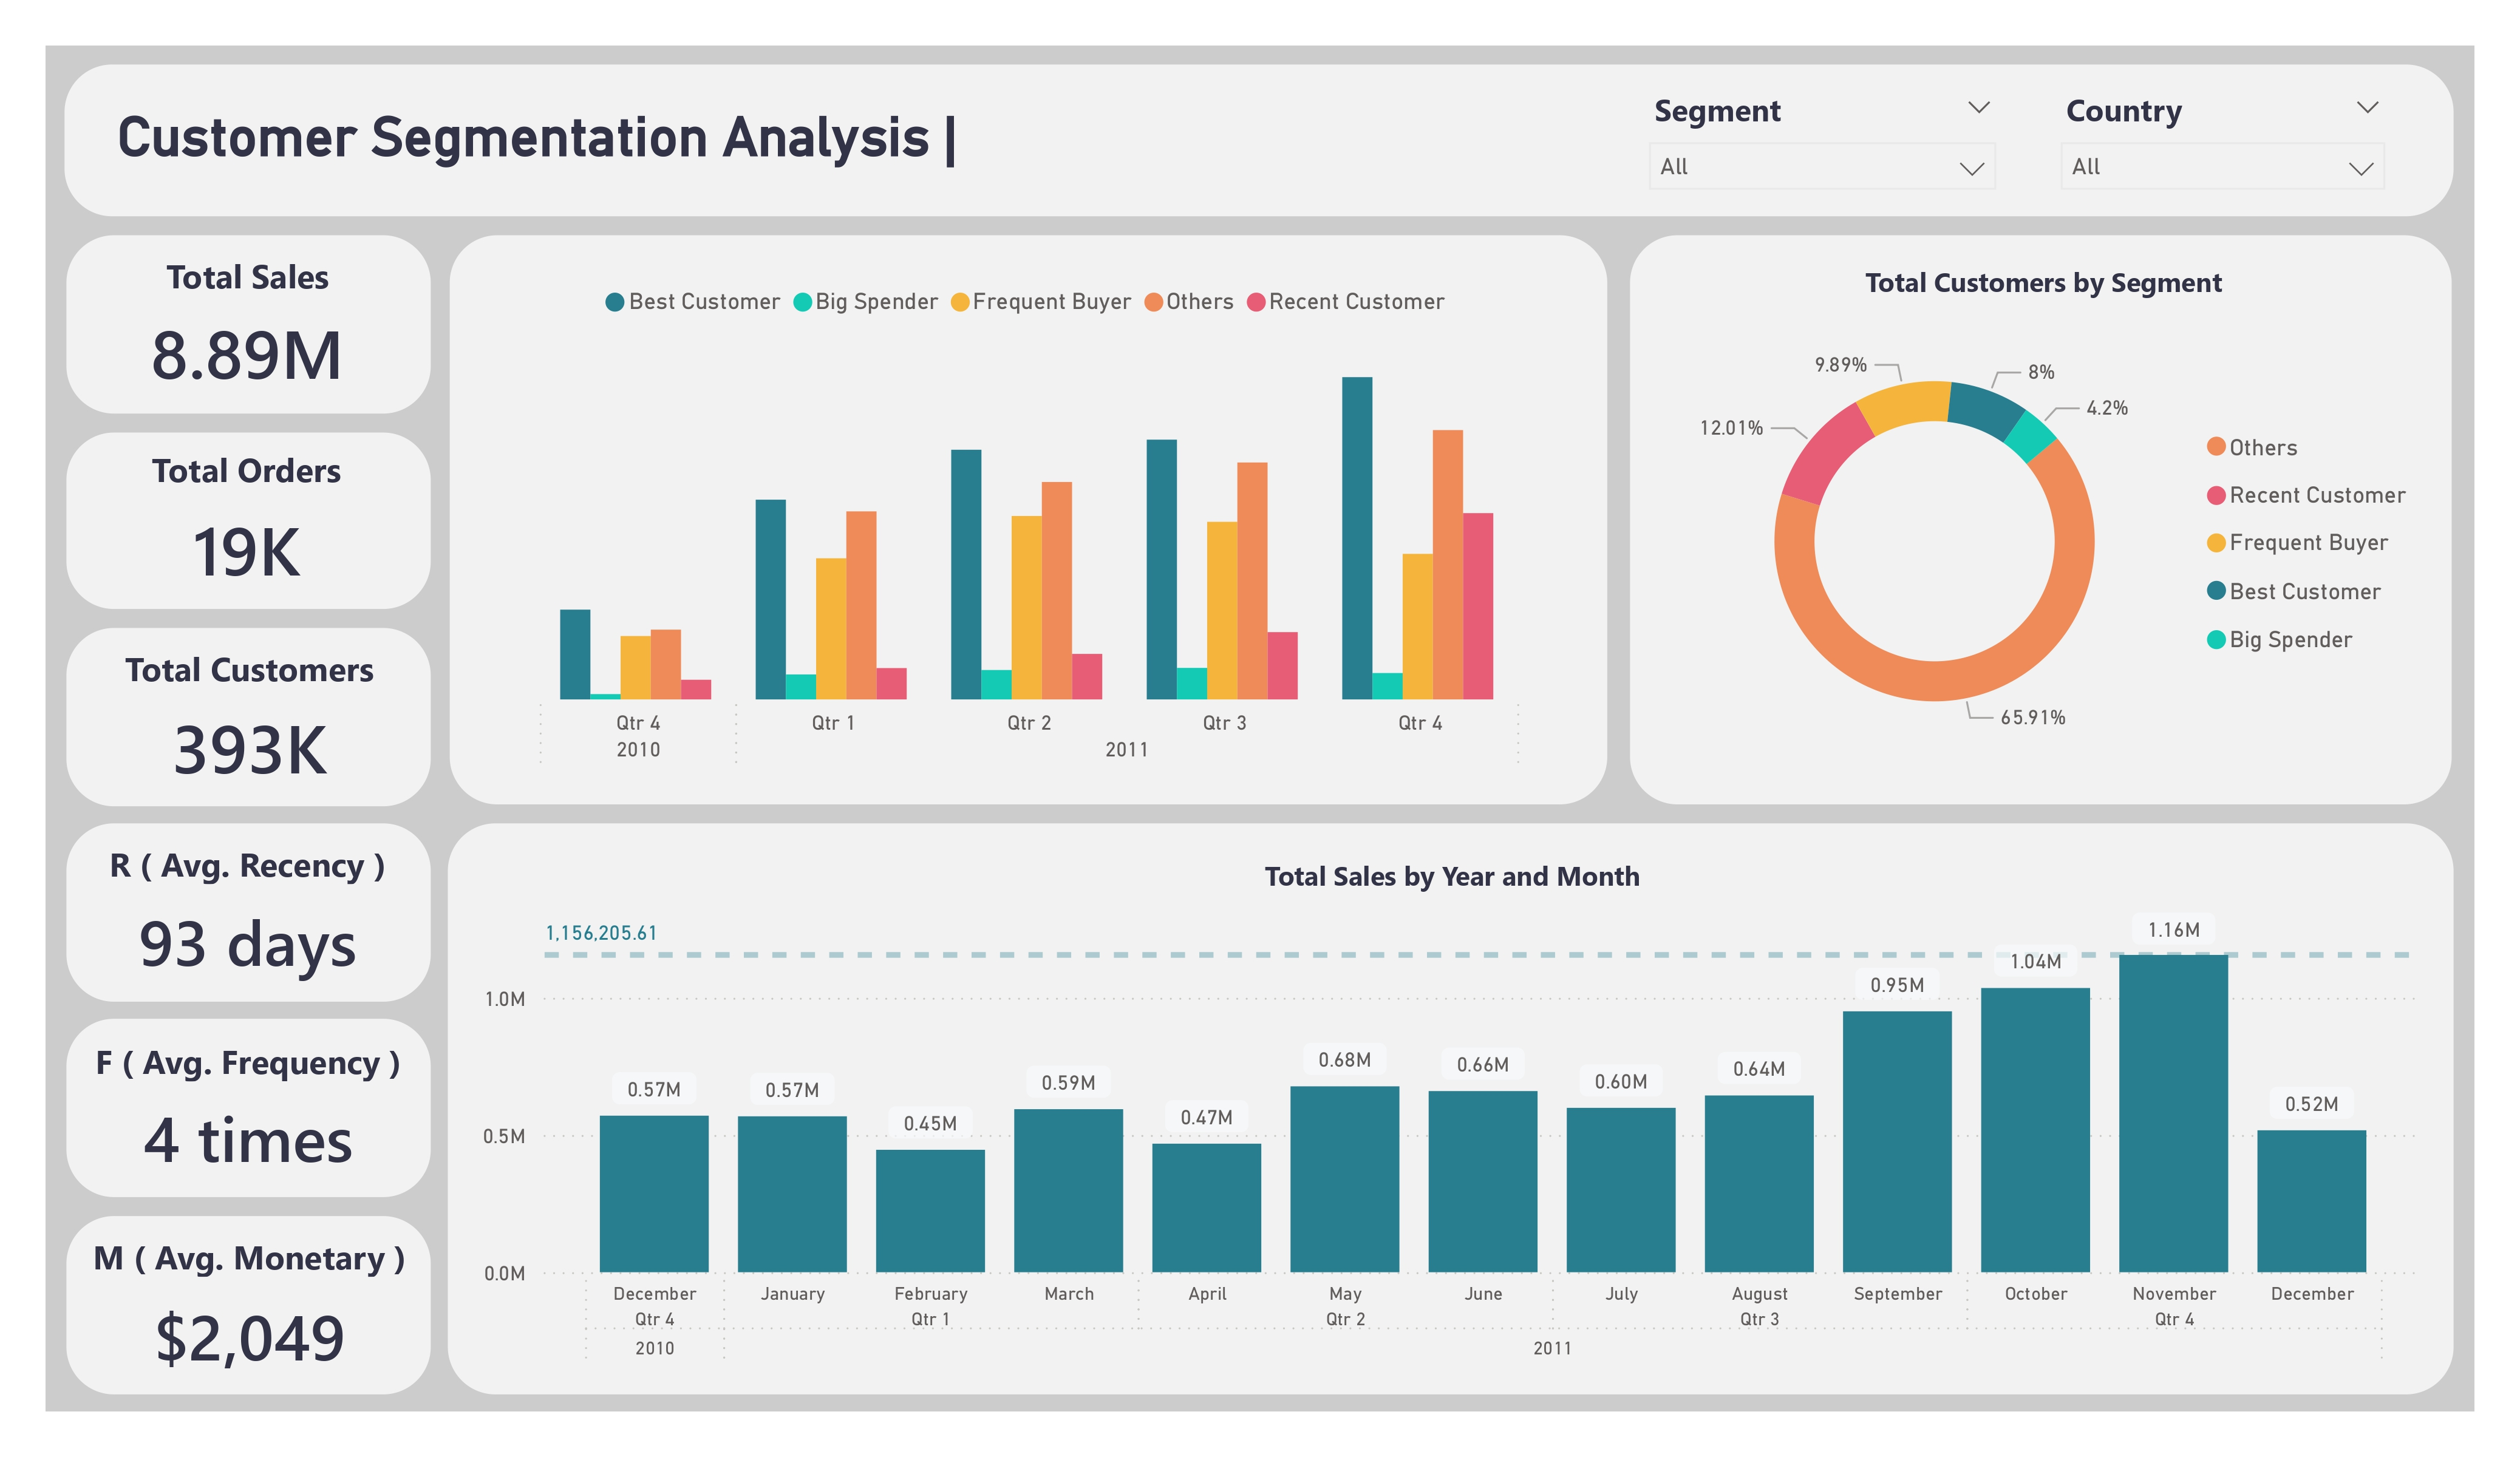

This screenshot's page, from the dashboard's own definition file:
{"tool":"powerbi","page":{"name":"Page 1","canvas":[1280,720],"ordinal":0},"visuals":[{"type":"shape","box":[10,10,1258.8,80],"z":0},{"type":"textbox","box":[32.9,25.7,545.7,50],"z":1000},{"type":"slicer","fields":{"Values":["retail.Country"]},"box":[1051.7,18.3,191.7,65],"z":2000},{"type":"shape","box":[835,100,433.3,300],"z":3000},{"type":"shape","box":[213.3,100,610,300],"z":4000},{"type":"slicer","fields":{"Values":["rfm_data.Segment"]},"box":[835,18.3,203.3,65],"z":5000},{"type":"donutChart","title":"Total Customers by Segment","fields":{"Category":["rfm_data.Segment"],"Y":["CountNonNull(rfm_data.CustomerID)"]},"box":[848.3,115,410,275],"z":6000},{"type":"shape","box":[212.2,410,1056.7,301.1],"z":7000},{"type":"lineClusteredColumnComboChart","title":"Total Sales by Year and Month","fields":{"Y":["Sum(retail.Sales)"],"Category":["retail.InvoiceDate.Variation.Date Hierarchy.Year","retail.InvoiceDate.Variation.Date Hierarchy.Quarter","retail.InvoiceDate.Variation.Date Hierarchy.Month"]},"box":[225,428.1,1033.3,275.8],"z":8000},{"type":"shape","box":[11.4,100,191.4,94.3],"z":9000},{"type":"lineClusteredColumnComboChart","fields":{"Category":["retail.InvoiceDate.Variation.Date Hierarchy.Year","retail.InvoiceDate.Variation.Date Hierarchy.Quarter"],"Series":["rfm_data.Segment"],"Y":["Count(retail.InvoiceNo)"]},"box":[225,115,586.7,275],"z":10000},{"type":"card","title":"Total Sales","fields":{"Values":["Sum(retail.Sales)"]},"box":[18.1,108.6,177.3,84.5],"z":11000},{"type":"shape","box":[11.4,204.3,191.4,92.9],"z":12000},{"type":"shape","box":[11.4,307.1,191.4,94.3],"z":13000},{"type":"shape","box":[11.4,410,191.4,94.3],"z":14000},{"type":"shape","box":[11.4,617.1,191.4,94.3],"z":15000},{"type":"shape","box":[11.4,512.9,191.4,94.3],"z":16000},{"type":"card","title":"Total Customers","fields":{"Values":["CountNonNull(retail.CustomerID)"]},"box":[18.1,316.1,178.6,85.7],"z":17000},{"type":"card","title":"R ( Avg. Recency )","fields":{"Values":["Avg(rfm_data.Recency)"]},"box":[18.1,418.6,177.3,85.7],"z":18000},{"type":"card","title":"Total Orders","fields":{"Values":["Count(retail.InvoiceNo)"]},"box":[16.9,211.1,178.6,86.9],"z":19000},{"type":"card","title":"F ( Avg. Frequency )","fields":{"Values":["Avg(rfm_data.Frequency)"]},"box":[17.1,522.9,180,84.3],"z":20000},{"type":"card","title":"M ( Avg. Monetary )","fields":{"Values":["Avg(rfm_data.Monetary)"]},"box":[18.6,625.7,177.1,87.1],"z":21000}]}

Visuals, with their boxes in screenshot pixels (x1, y1, x2, y2):
shape: bbox(64, 64, 2453, 216)
textbox: bbox(108, 94, 1143, 189)
slicer - retail.Country: bbox(2042, 80, 2405, 203)
shape: bbox(1630, 236, 2452, 804)
shape: bbox(451, 236, 1608, 804)
slicer - rfm_data.Segment: bbox(1630, 80, 2016, 203)
"Total Customers by Segment" donutChart: bbox(1655, 263, 2433, 786)
shape: bbox(448, 823, 2453, 1394)
"Total Sales by Year and Month" lineClusteredColumnComboChart: bbox(472, 858, 2433, 1381)
shape: bbox(67, 236, 431, 414)
lineClusteredColumnComboChart - retail.InvoiceDate.Variation.Date Hierarchy.Year x retail.InvoiceDate.Variation.Date Hierarchy.Quarter: bbox(472, 263, 1586, 786)
"Total Sales" card: bbox(80, 251, 417, 412)
shape: bbox(67, 433, 431, 610)
shape: bbox(67, 628, 431, 807)
shape: bbox(67, 823, 431, 1002)
shape: bbox(67, 1216, 431, 1395)
shape: bbox(67, 1019, 431, 1197)
"Total Customers" card: bbox(80, 645, 419, 808)
"R ( Avg. Recency )" card: bbox(80, 840, 417, 1002)
"Total Orders" card: bbox(78, 446, 417, 611)
"F ( Avg. Frequency )" card: bbox(78, 1038, 420, 1197)
"M ( Avg. Monetary )" card: bbox(81, 1232, 417, 1398)
